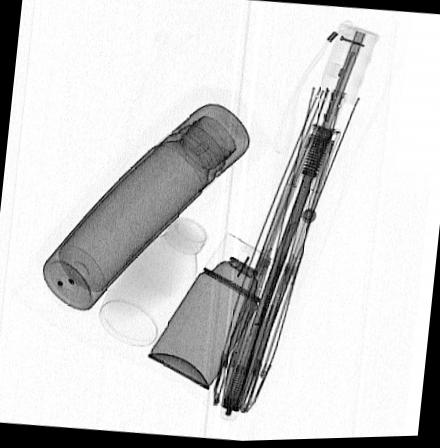Sprayer: (145, 231, 285, 393)
